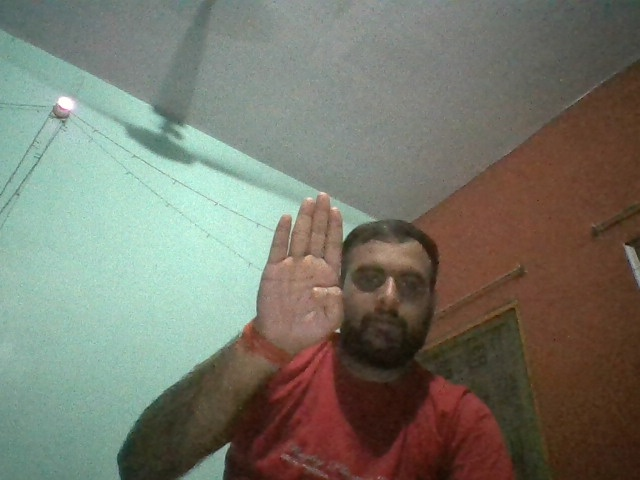hello: (257, 191, 344, 344)
